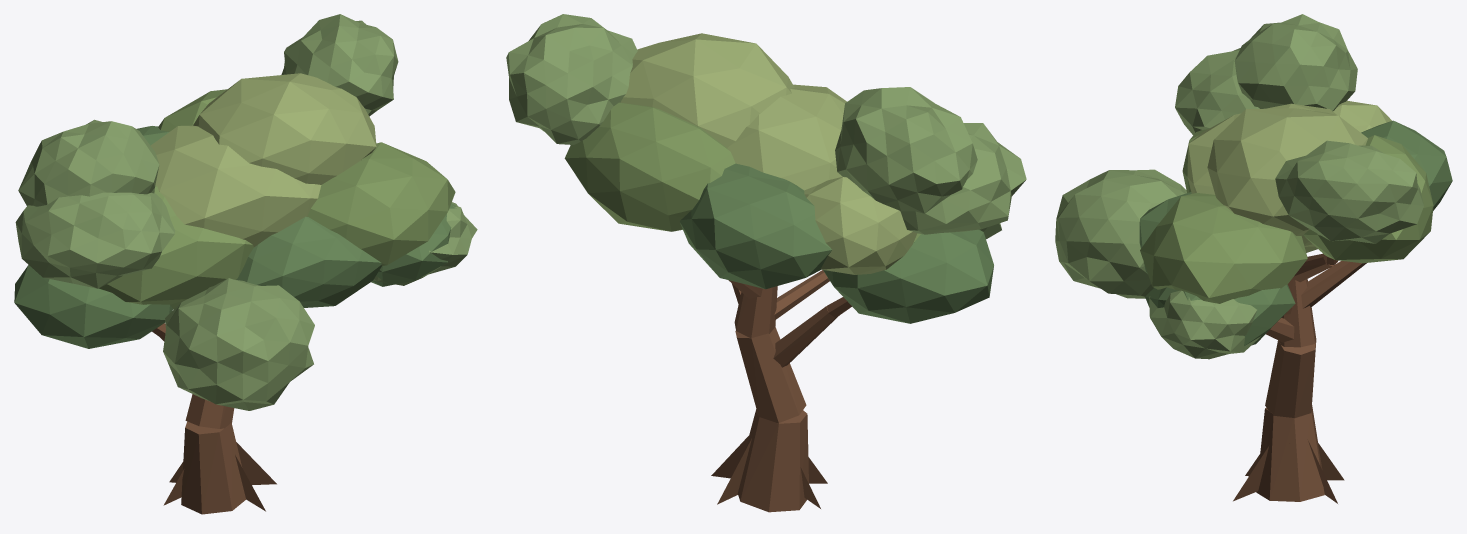
Rendered from oak_2.glb.
3 views of the same model, side by side, from view 1: azimuth 30°, elevation 25°; view 2: azimuth 150°, elevation 25°; view 3: azimuth 270°, elevation 25° (orthographic). The views are drawn at different scales.
Visible parts, largest first — view 1: foliage-1, foliage-2, foliage-0, surface; view 2: foliage-0, foliage-2, foliage-1, surface; view 3: foliage-1, foliage-0, foliage-2, surface.
Part boxes in pixels (box(x1,y1,x2,y2)): foliage-1: box(15, 89, 455, 410); foliage-2: box(18, 119, 477, 307); foliage-0: box(14, 14, 398, 348); surface: box(152, 323, 276, 514); foliage-0: box(506, 14, 993, 323); foliage-2: box(727, 84, 977, 213); foliage-1: box(564, 102, 1026, 241); surface: box(711, 270, 851, 512); foliage-1: box(1055, 48, 1433, 303); foliage-0: box(1207, 100, 1452, 243); foliage-2: box(1139, 14, 1357, 359); surface: box(1233, 253, 1366, 503).
Bounding box in the file's own units: 6.46 × 6.15 × 5.17.
